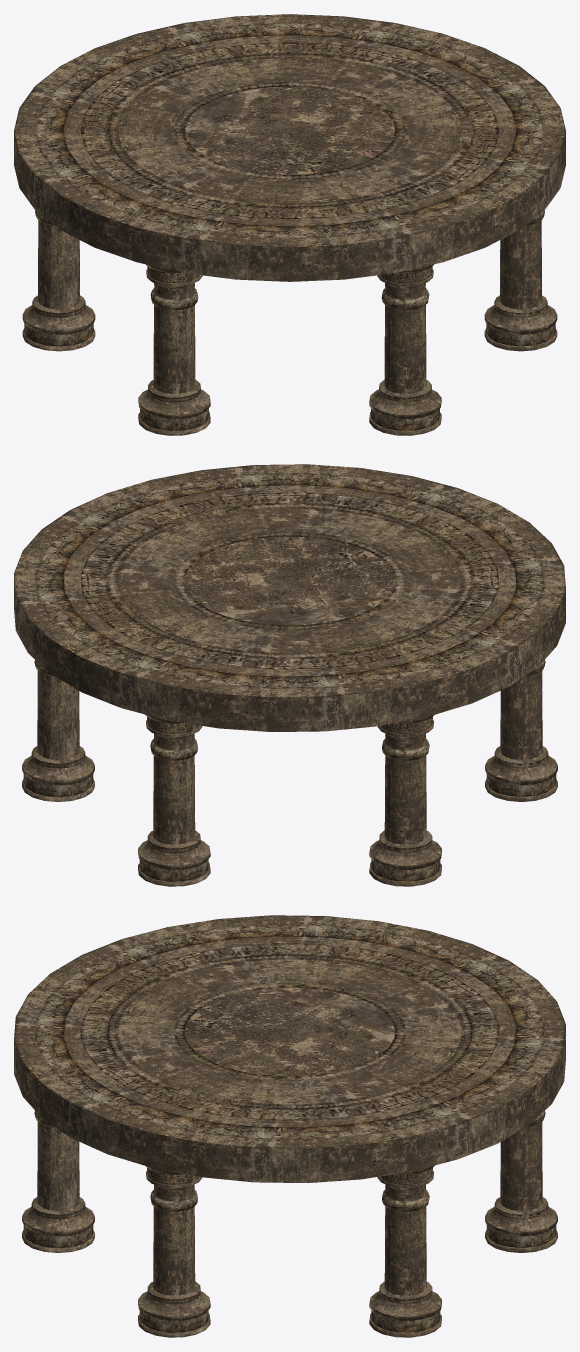
Rendered from materials_5_table_2.fbx.
The picture shows the model from 3 angles, top to bottom: view 1: azimuth 30°, elevation 25°; view 2: azimuth 150°, elevation 25°; view 3: azimuth 270°, elevation 25°; orthographic projection.
Visible parts, largest first — view 1: materials_5_table_2; view 2: materials_5_table_2; view 3: materials_5_table_2.
Part boxes in pixels (x1,y1,x2,y2): materials_5_table_2: (14, 14, 565, 435); materials_5_table_2: (14, 464, 565, 886); materials_5_table_2: (14, 915, 565, 1337).
Size of the model in its own units: 175 by 71.84 by 175.
